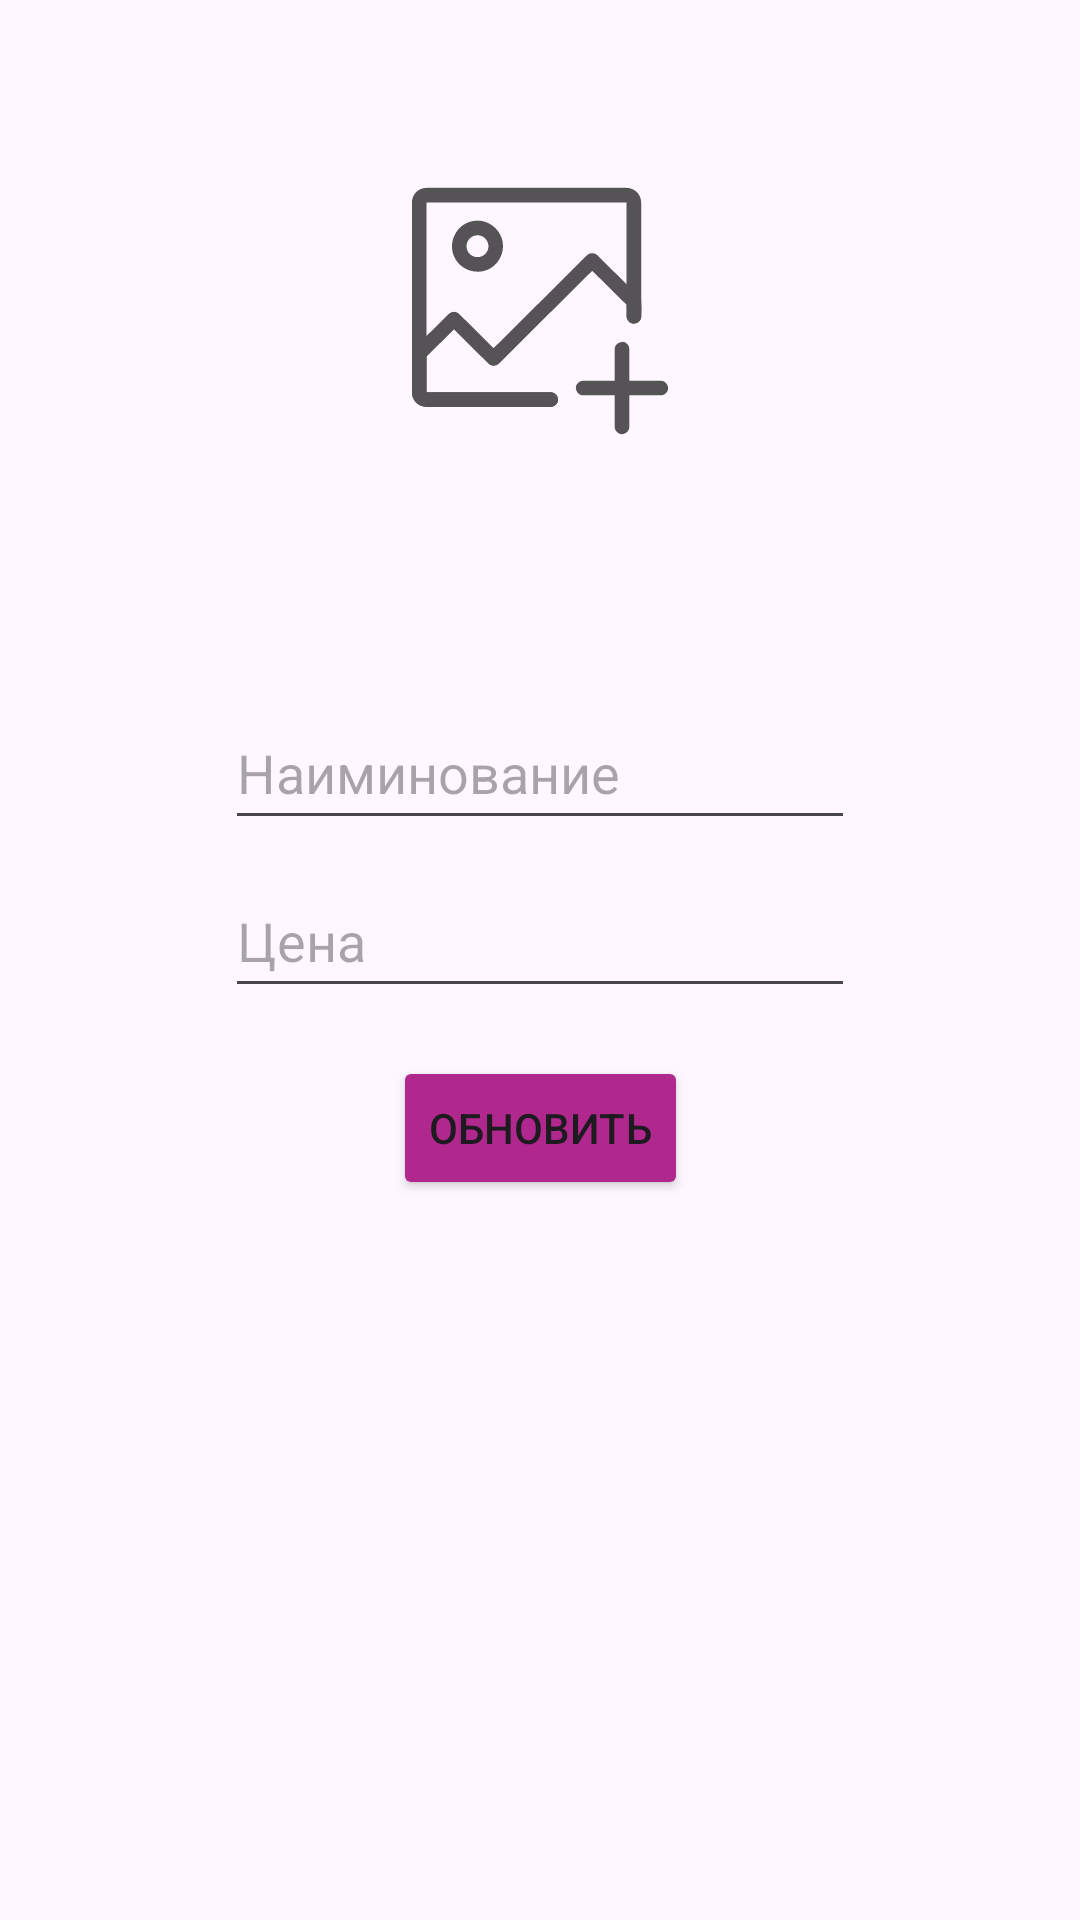

Named icons in this screenshot (1080 x 1920) and their centers, (x,y):
add im: (540,311)
